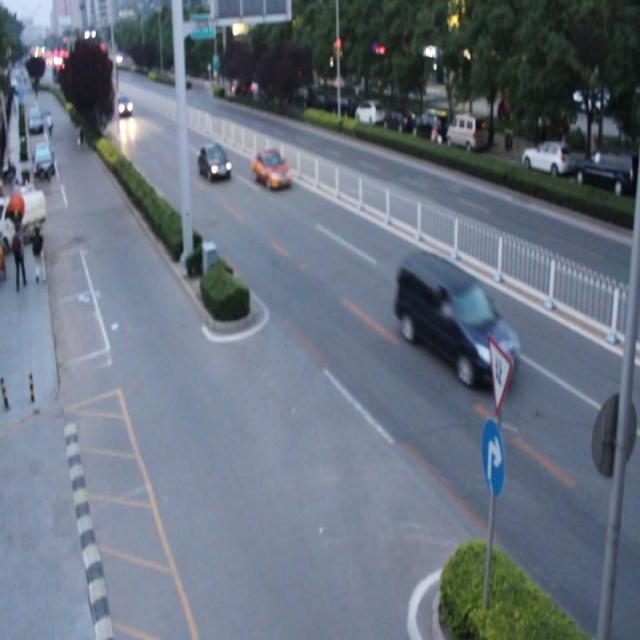car: (251, 147, 292, 188), (196, 142, 231, 182)
truck: (396, 246, 521, 387)
